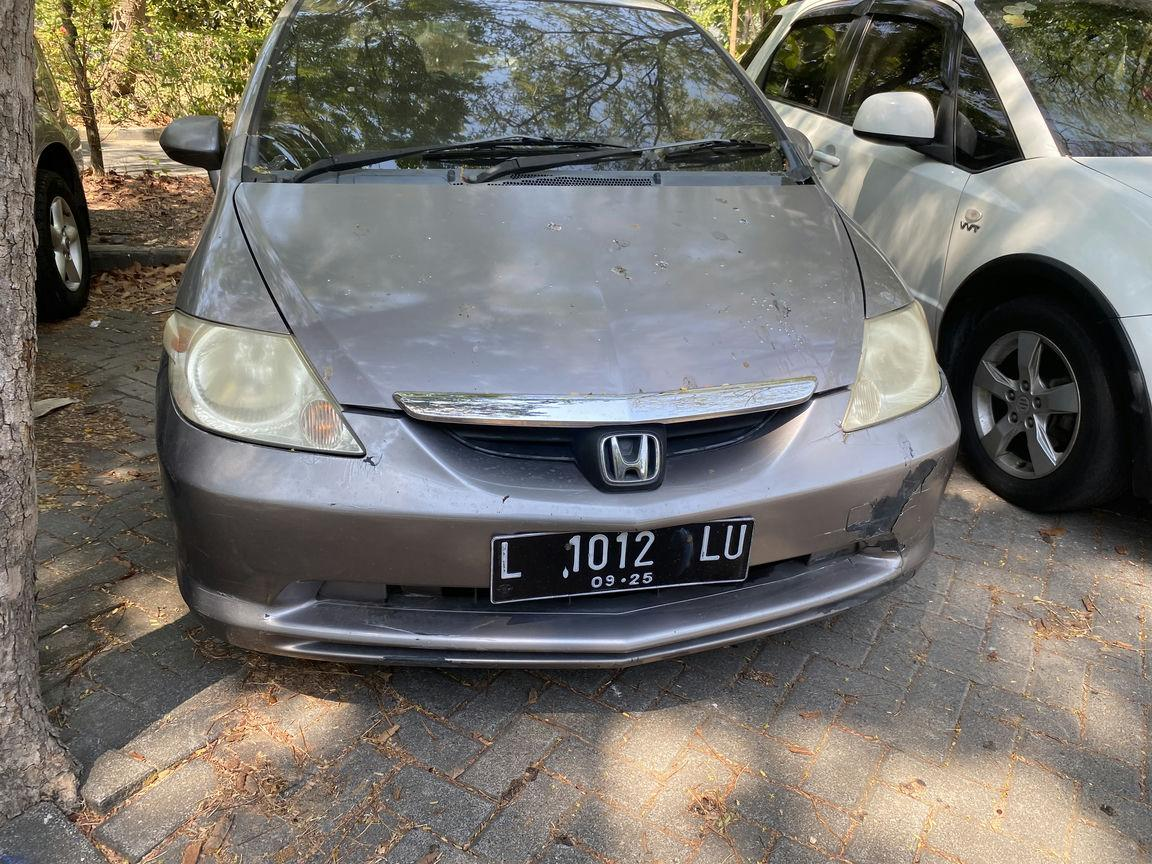plat: (490, 518, 754, 605)
